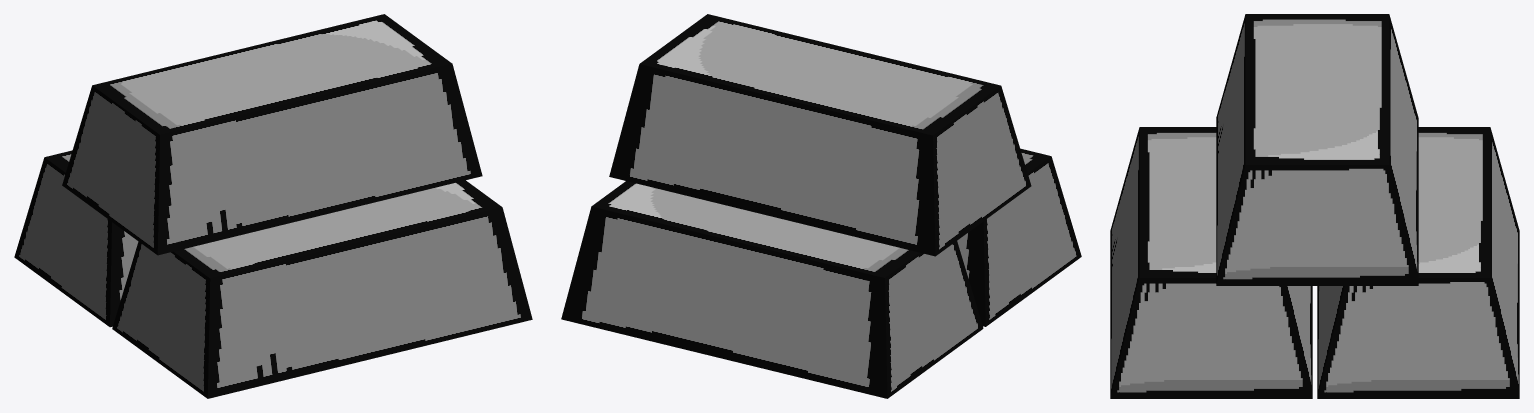
The model's file is metal.fbx.
3 renders of one model, left to right at view 1: azimuth 30°, elevation 25°; view 2: azimuth 150°, elevation 25°; view 3: azimuth 270°, elevation 25°, orthographic. The views are drawn at different scales.
Parts seen in each view (by area): view 1: pCube3, pCube1, pCube2; view 2: pCube3, pCube2, pCube1; view 3: pCube3, pCube1, pCube2.
Boxes of the visible parts, x1,y1,x2,y2 form: pCube3: [62, 14, 482, 255]; pCube1: [112, 180, 532, 398]; pCube2: [14, 150, 138, 327]; pCube3: [609, 14, 1031, 256]; pCube2: [561, 181, 983, 398]; pCube1: [957, 148, 1081, 326]; pCube3: [1216, 14, 1418, 285]; pCube1: [1110, 127, 1312, 398]; pCube2: [1317, 127, 1519, 398].
Size of the model in its own units: 4.54 by 2.85 by 4.69.
